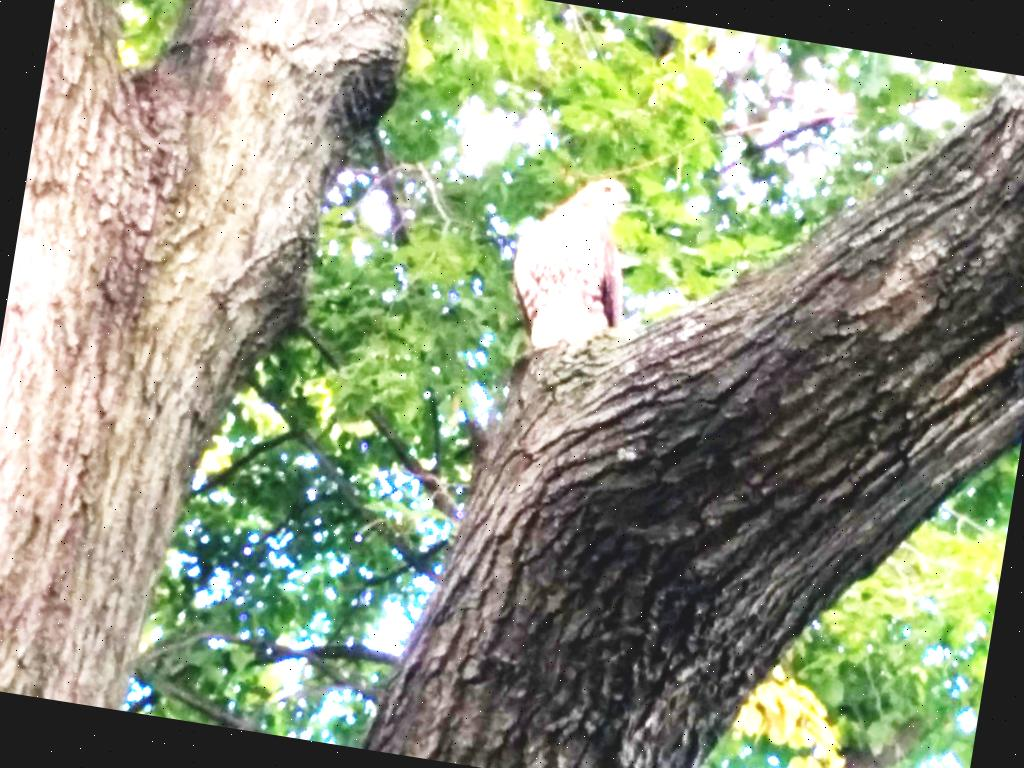Owl: (497, 162, 646, 364)
